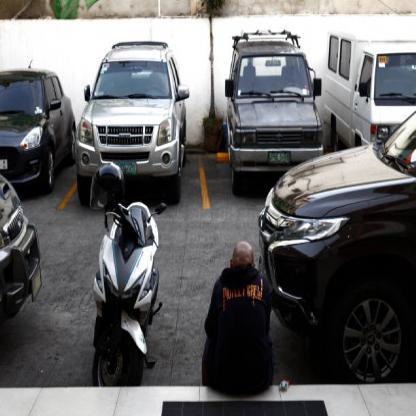Motorcycle: (84, 178, 168, 387)
